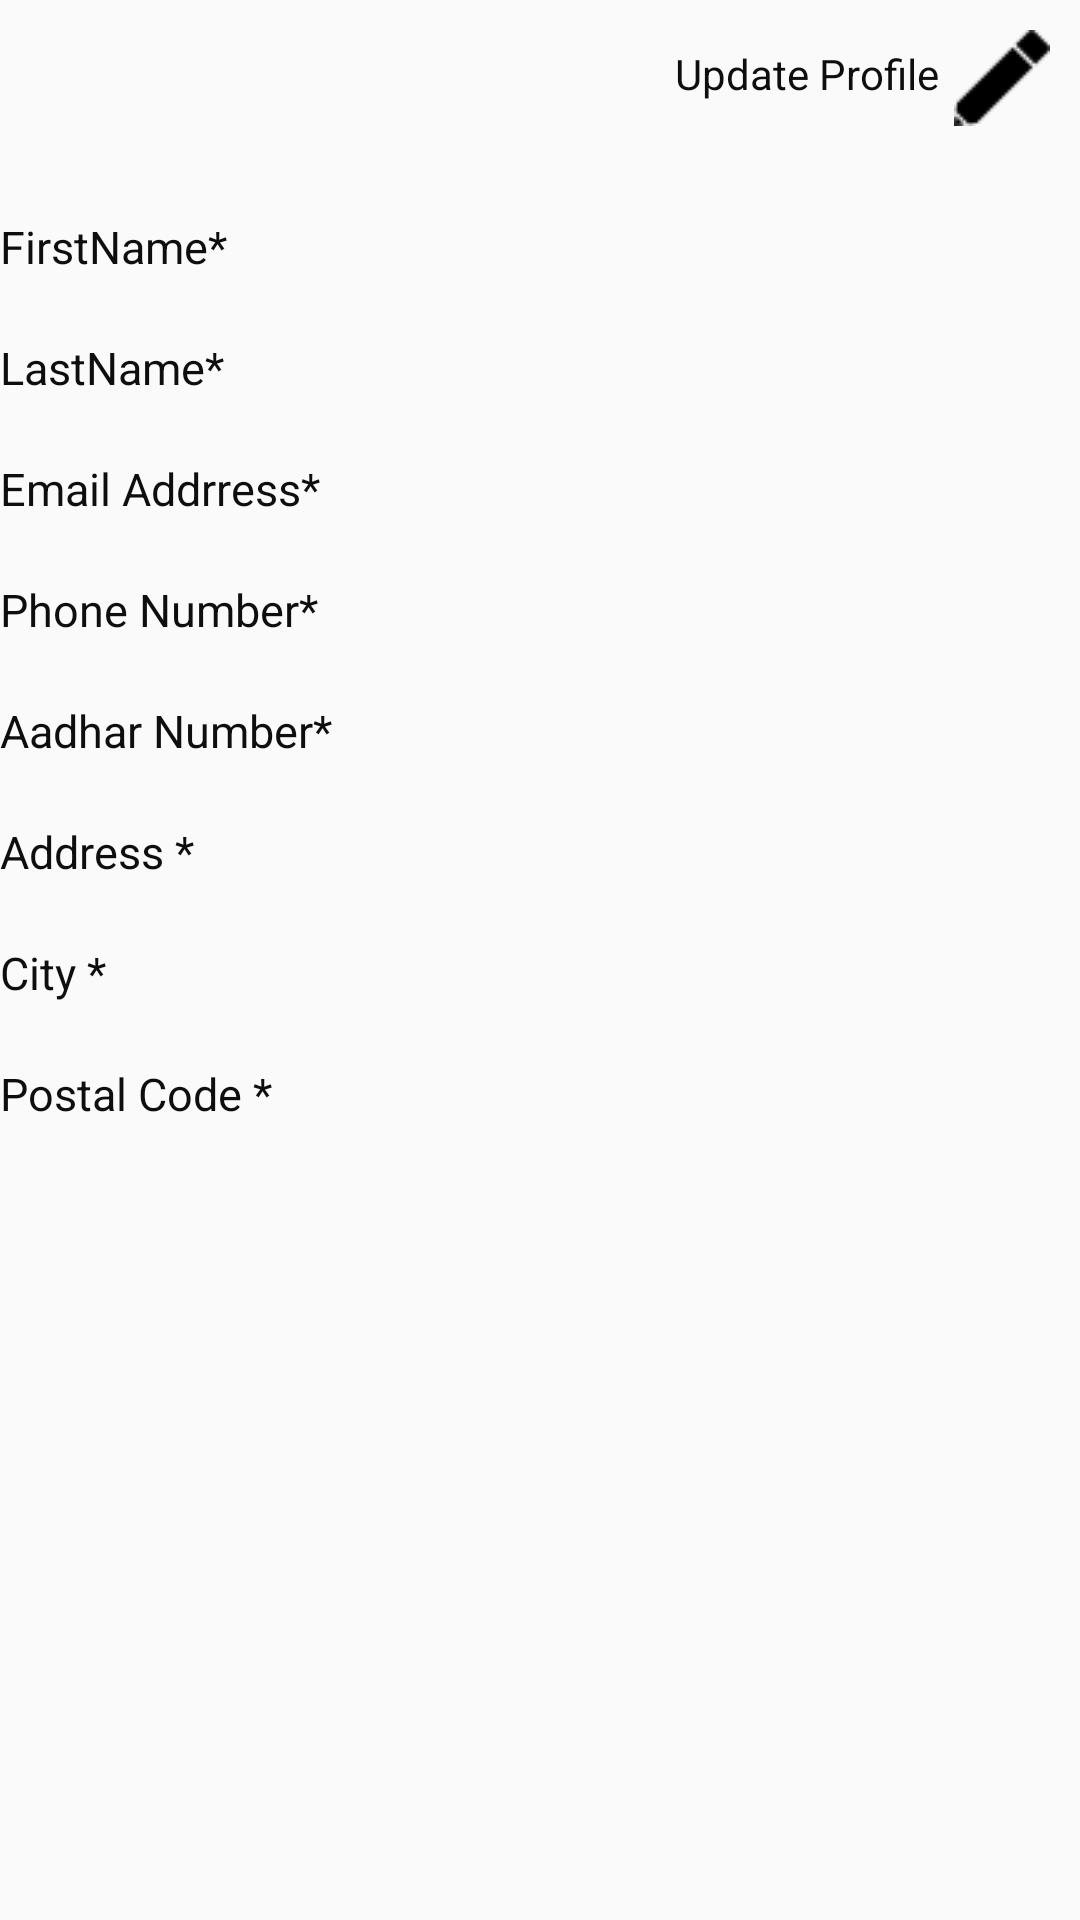

Icons on this 1080*1920 Android screen, each with its box as box(x1, y1, x2, y2):
updateprofie: box(954, 30, 1050, 126)
